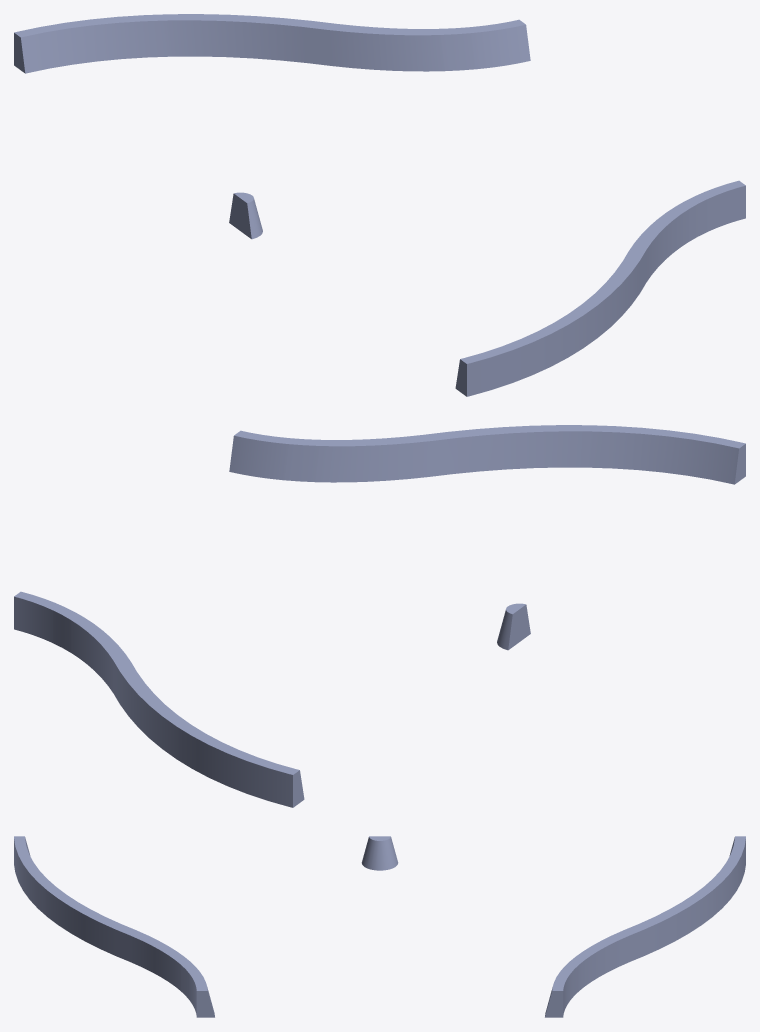
The model's file is road-split-barrier.glb.
3 renders of one model, top to bottom at view 1: azimuth 30°, elevation 25°; view 2: azimuth 150°, elevation 25°; view 3: azimuth 270°, elevation 25°, orthographic. The views are drawn at different scales.
Visible parts, largest first — view 1: road-split-barrier; view 2: road-split-barrier; view 3: road-split-barrier.
Part boxes in pixels (box(x1,y1,x2,y2)): road-split-barrier: box(14, 14, 745, 396); road-split-barrier: box(14, 425, 745, 807); road-split-barrier: box(14, 836, 745, 1017).
Bounding box in the file's own units: 10 × 0.8008 × 20.
1 material, 1 textured.
